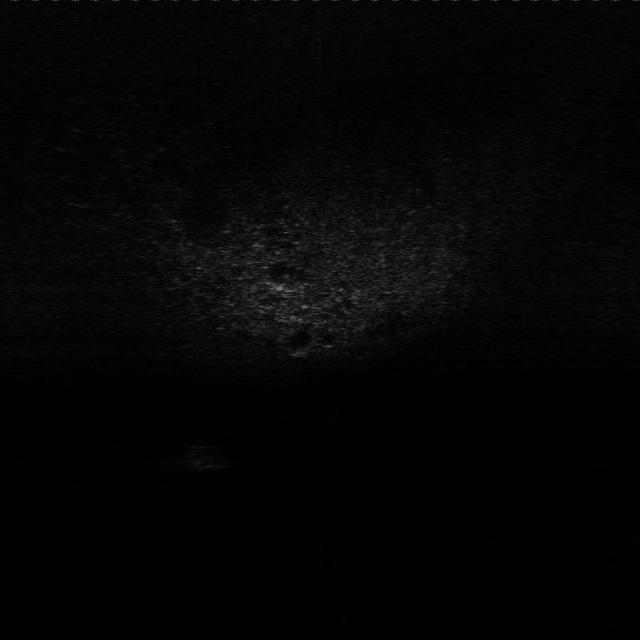circle cage: (182, 440, 237, 473)
